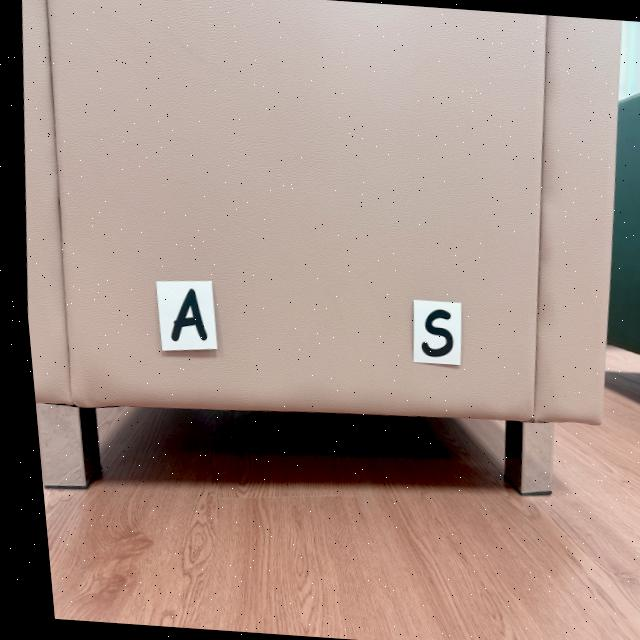A: (164, 287, 201, 341)
S: (406, 300, 455, 366), (415, 308, 446, 356)
